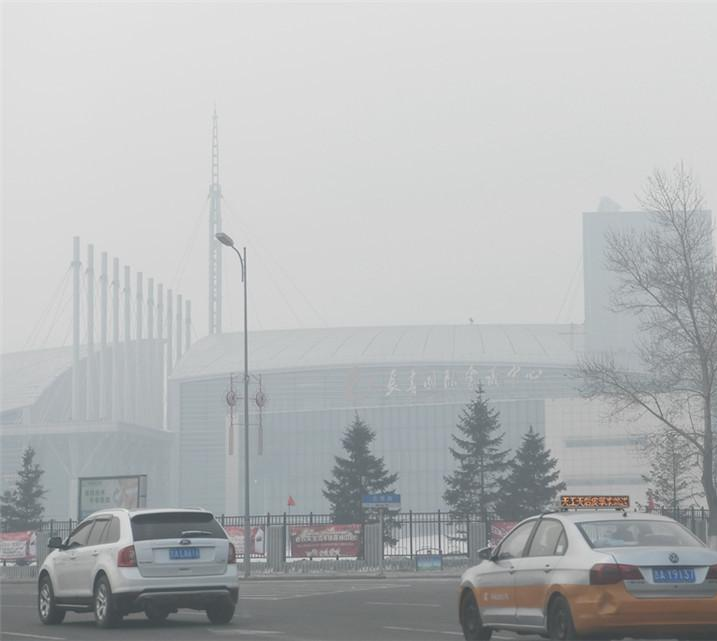car: (454, 489, 717, 641), (35, 506, 243, 628)
